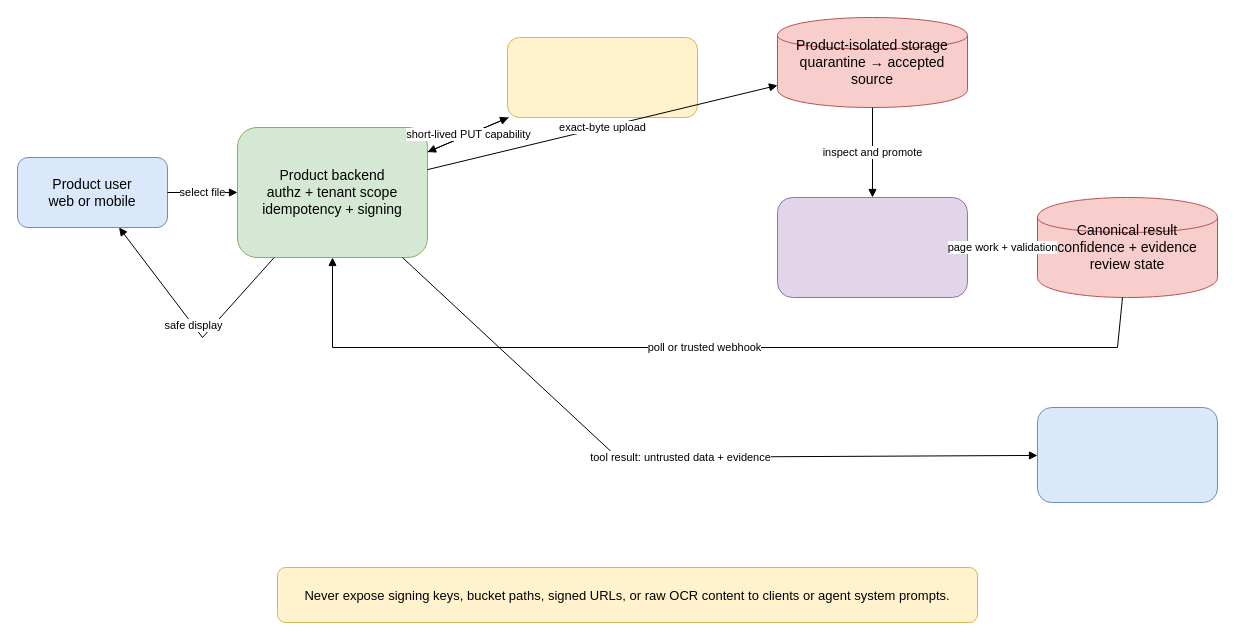
The diagram is 1235 pixels wide and 640 high, and some of its shapes have lost their labels. Each missing label, with the centre of its shape:
"Document Intelligence private upload API" goes at pixel 602 77.
"Inspection + outbox Temporal durable workflow OCR and validation" goes at pixel 872 247.
"Product AI agent untrusted tool data only citations required" goes at pixel 1127 454.
